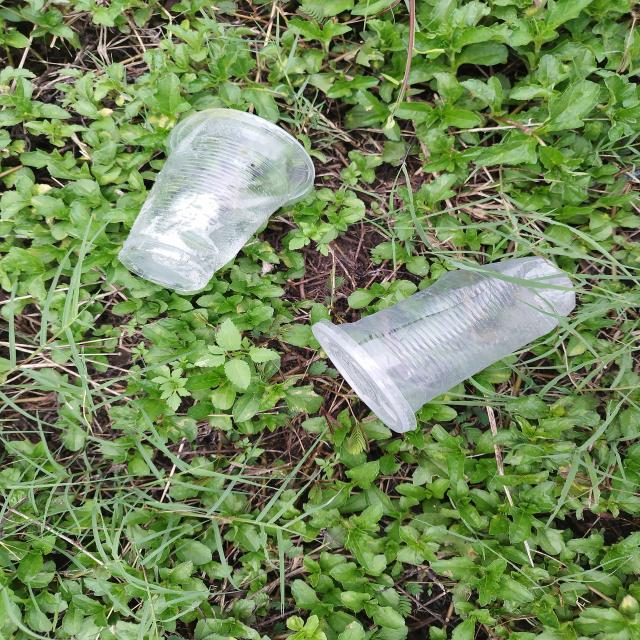plastic glass: (311, 256, 577, 432), (118, 109, 316, 291)
